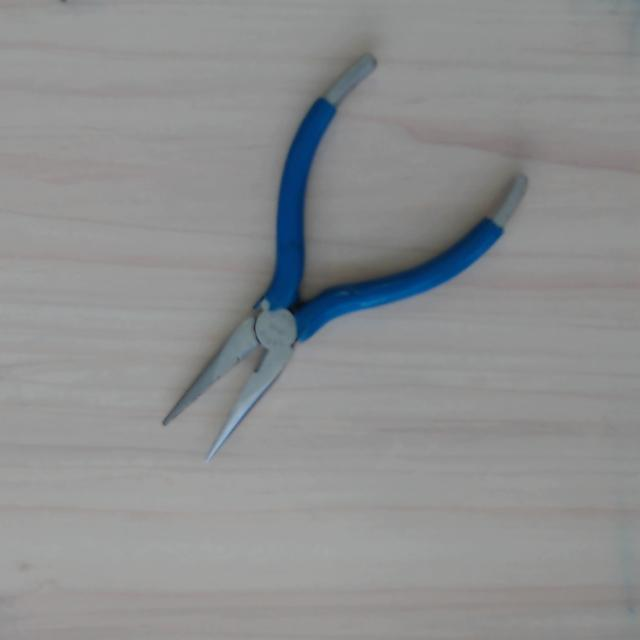Tang-Jepit-Biru: (99, 45, 539, 516)
